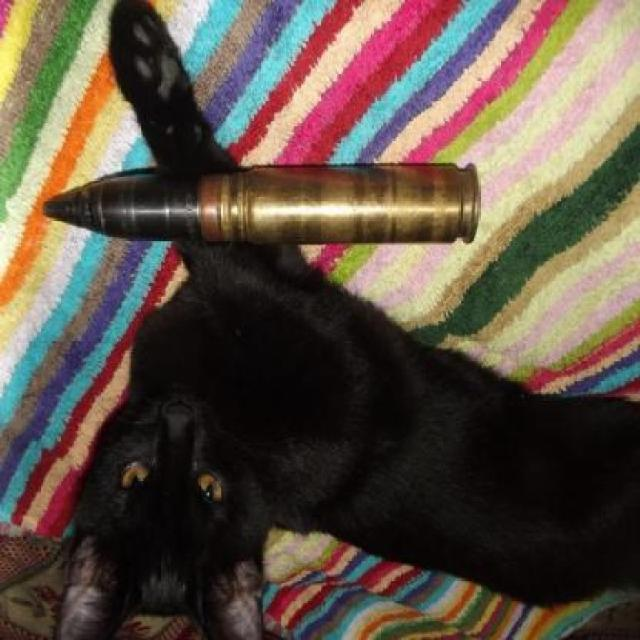cat: (51, 277, 343, 640)
